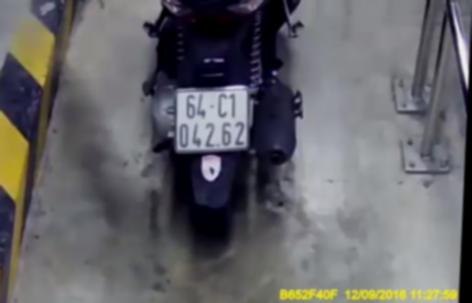License_Plate: (165, 84, 261, 162)
